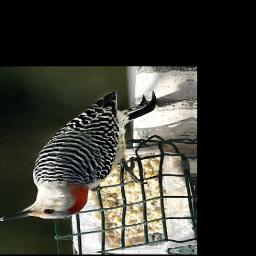Woodpecker: (0, 90, 161, 222)
